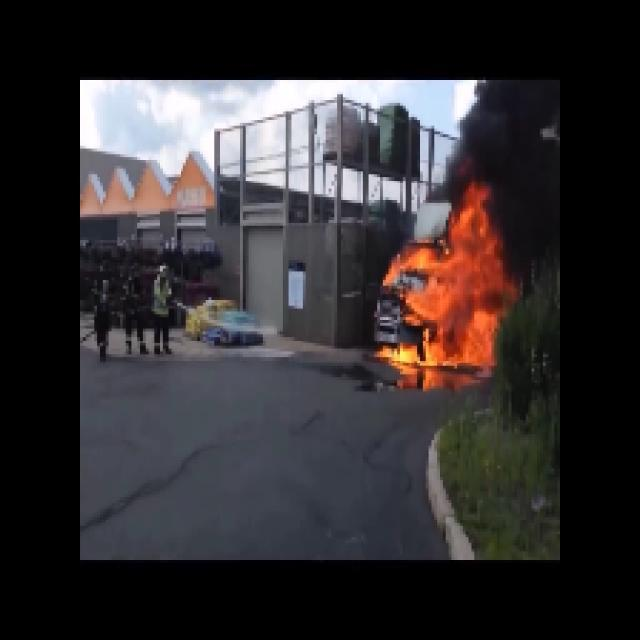Fire: (408, 230, 498, 368)
Smoke: (495, 82, 554, 248)
